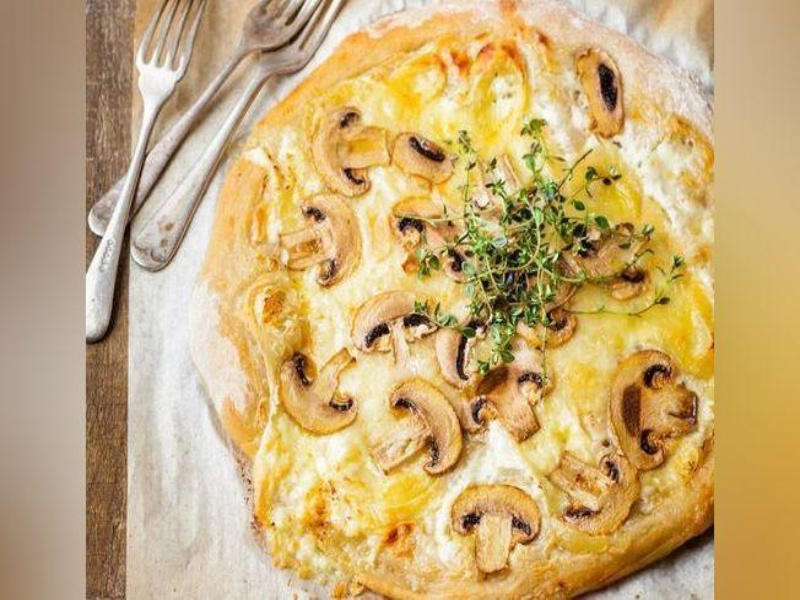champignon: (607, 344, 704, 478), (455, 352, 564, 445), (447, 480, 545, 582), (367, 378, 464, 480), (271, 191, 366, 294), (268, 343, 366, 442), (543, 451, 646, 540), (309, 104, 392, 206), (350, 289, 447, 373), (569, 41, 637, 149), (384, 126, 467, 192)
